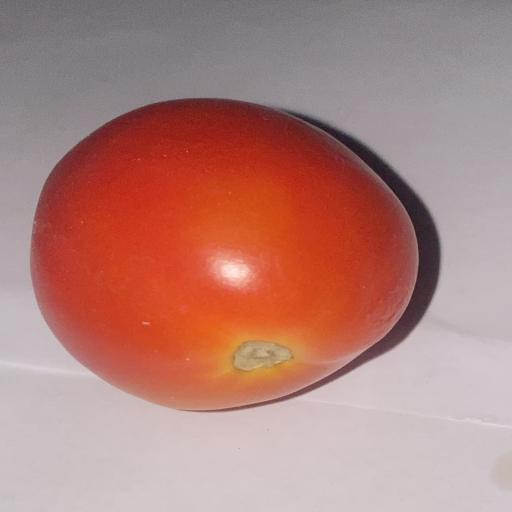ripe: (31, 99, 418, 410)
